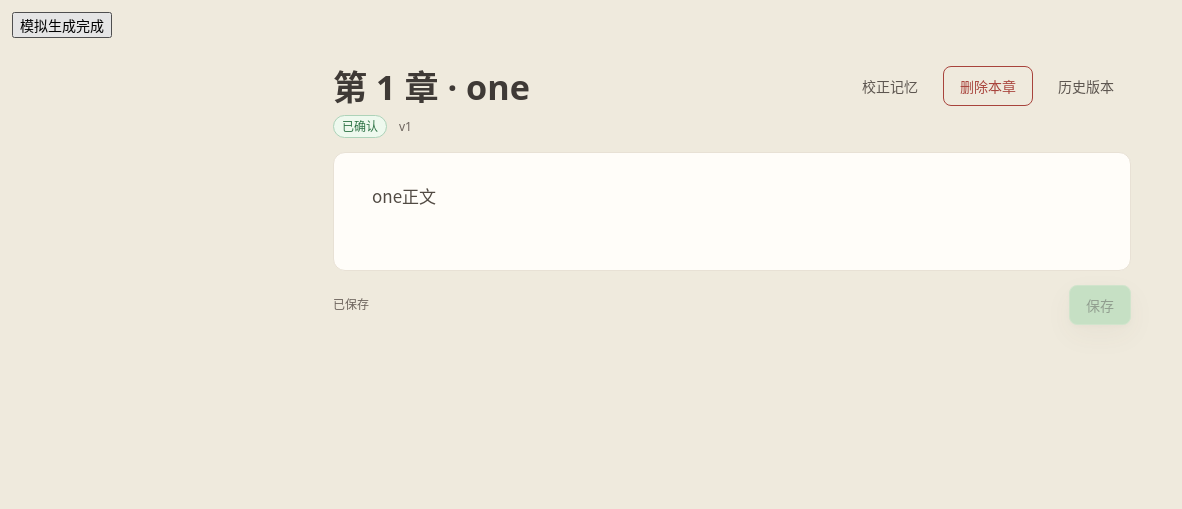
Scenario: 章节编辑的草稿和版本保护 › 409 保留草稿并展示服务器正文，未经确认不会覆盖
Replace the text in the text box named "章节正文" with "我的修改" at (732, 212), box x1=333 y1=152 x2=1131 y2=271
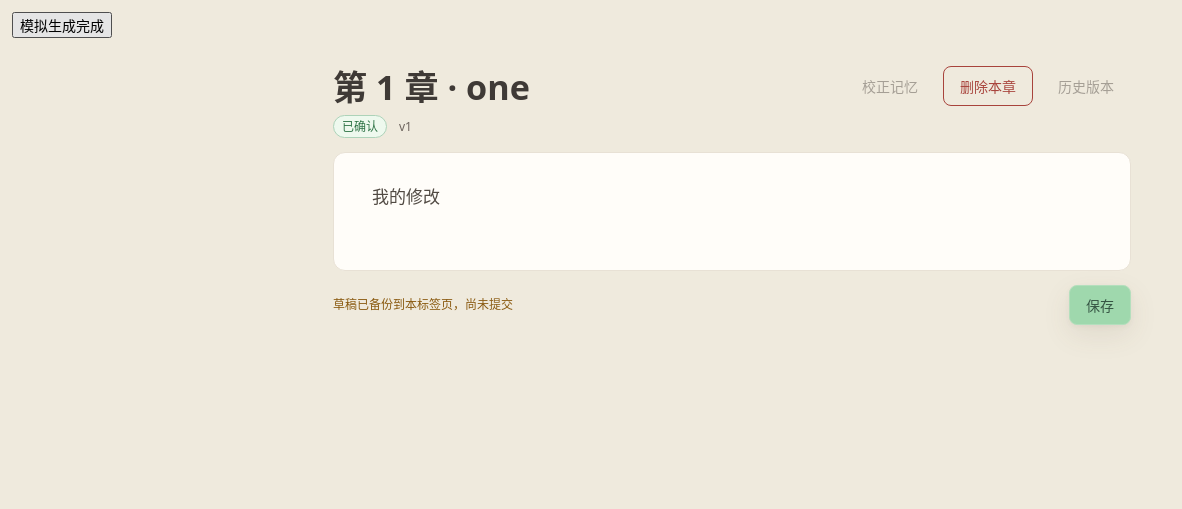
Click the button "保存" at (1100, 305), box x1=1069 y1=285 x2=1131 y2=325
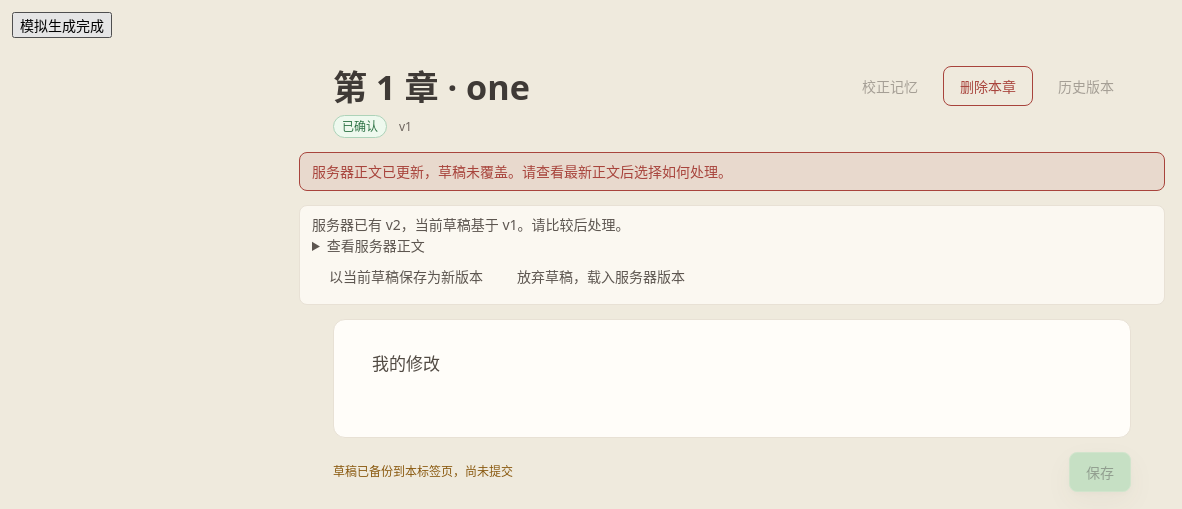
Expected: the button "保存" is disabled, x1=1069 y1=452 x2=1131 y2=492
